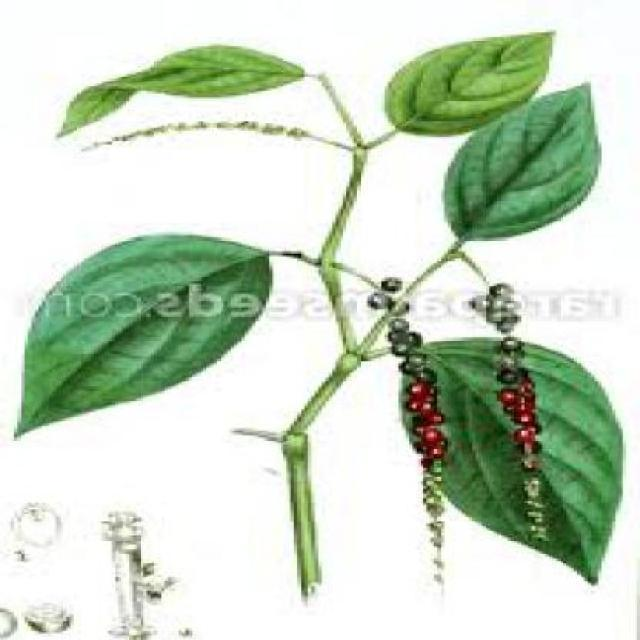RIPE: (494, 346, 560, 445), (402, 371, 448, 462)
